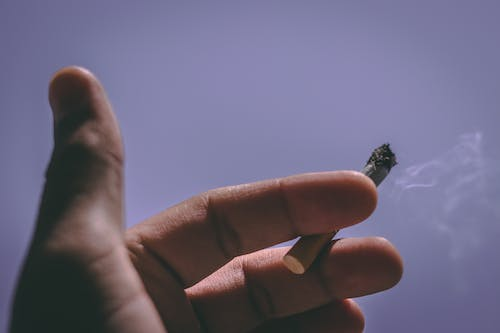cigarette: (280, 141, 399, 275)
